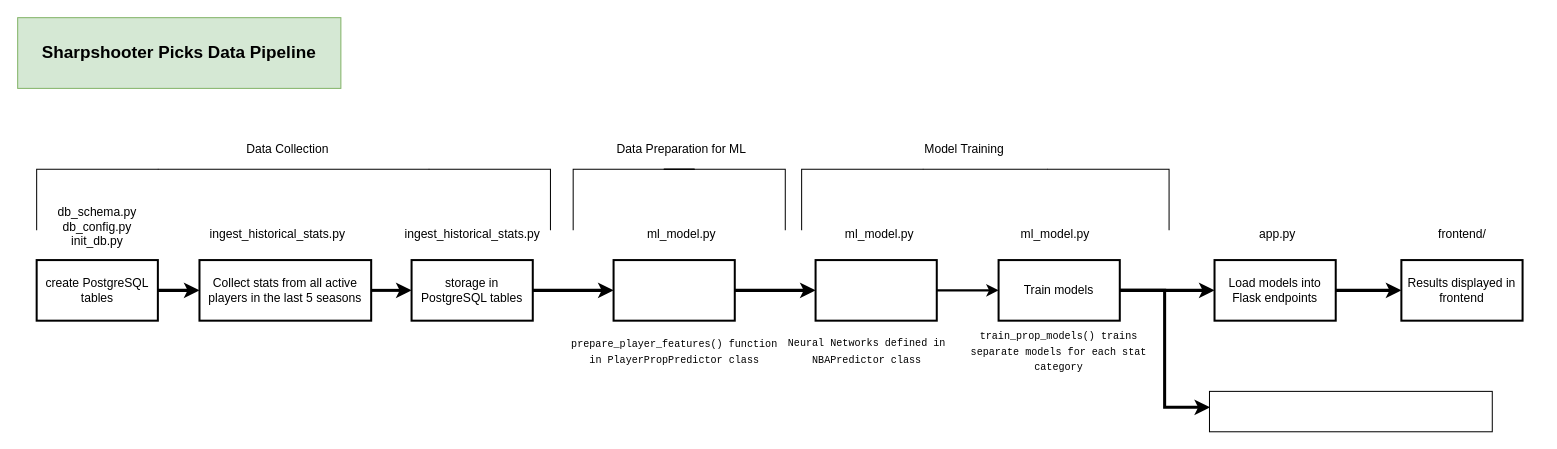
This 1557x449 diagram has some shape labels left out. The centre of each missing label's shape, as x and y in pixels:
Define models: the point at 875,290
Feature Engineering: the point at 673,290
Trained models saved as .pt files for later use: the point at 1350,411
